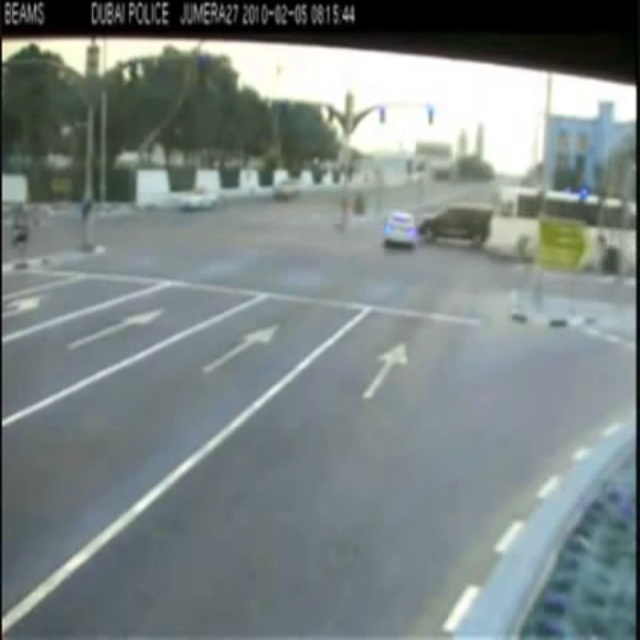acc: (376, 196, 490, 252)
